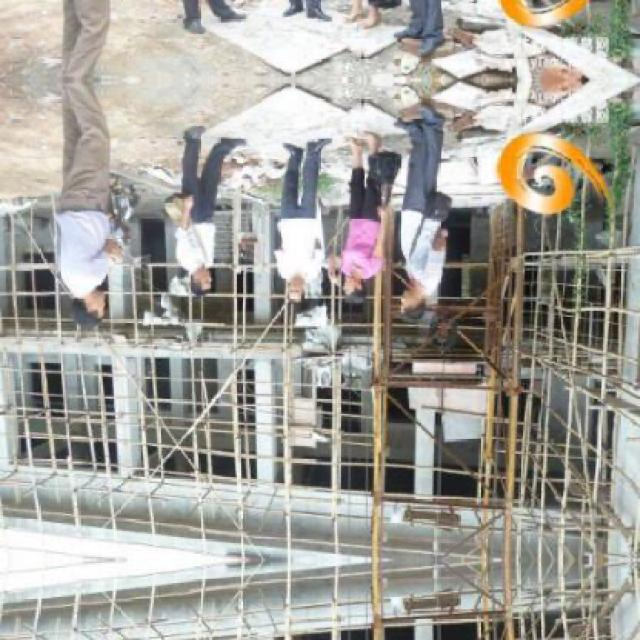sin casco: (61, 279, 132, 339), (166, 247, 226, 301), (393, 279, 441, 337), (322, 261, 368, 310), (262, 278, 309, 312)
